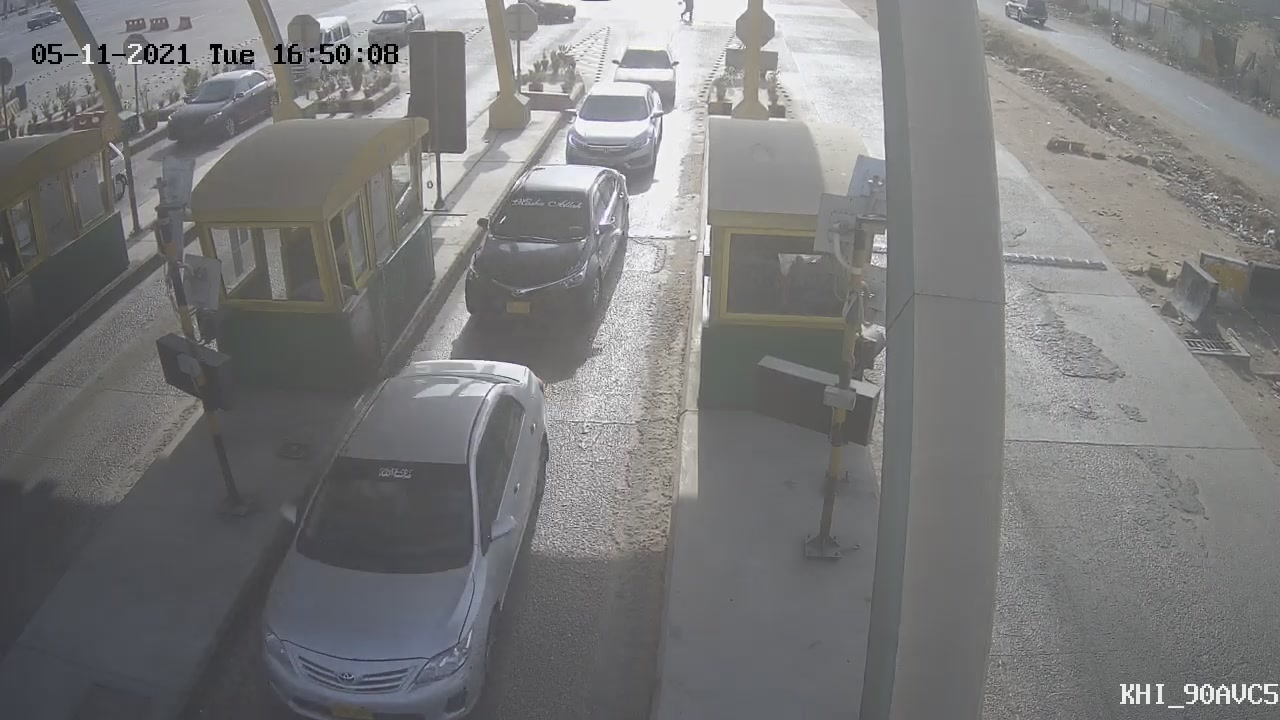F1: (447, 144, 655, 353), (553, 65, 681, 195)
